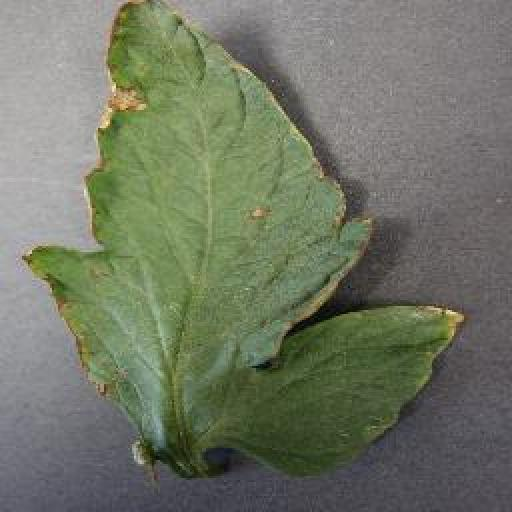Bacterial Spot: (20, 0, 468, 484)
